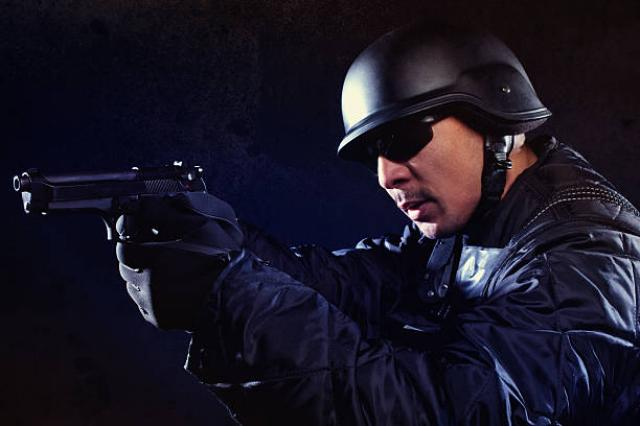other: (315, 30, 639, 416)
